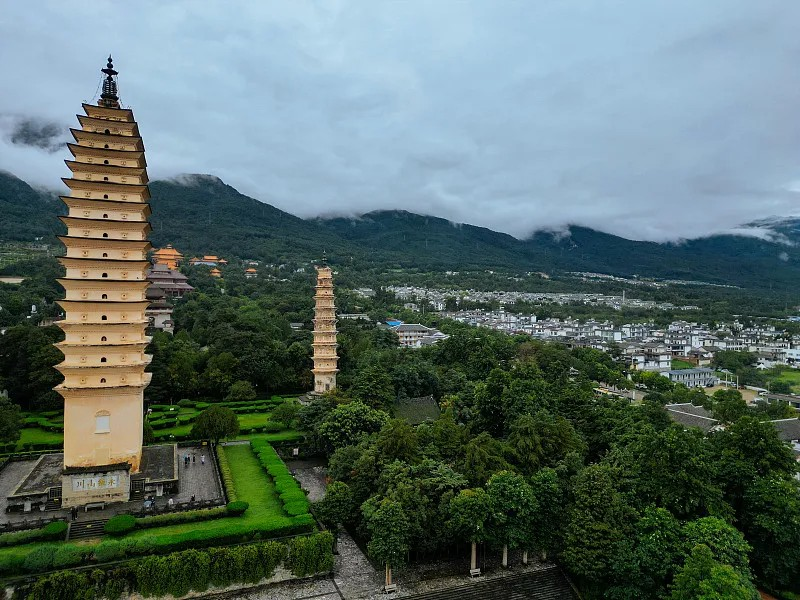ThreePagoda: (52, 54, 152, 474)
